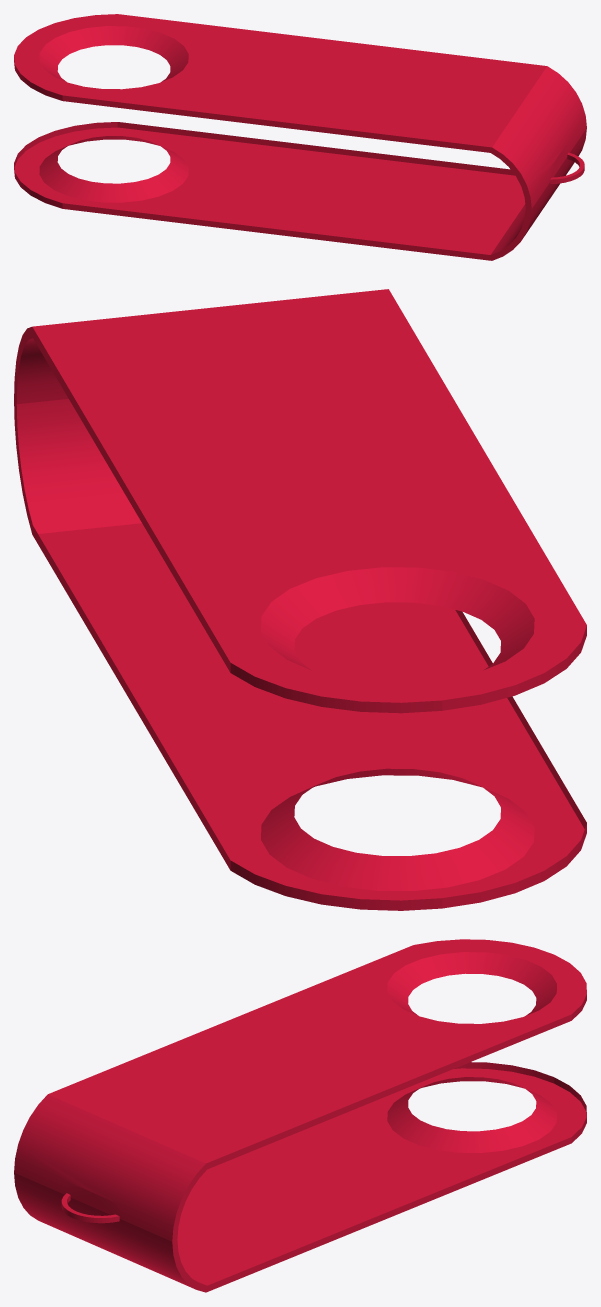
Rendered from original-1.obj.
3 views of the same model, one above another, from view 1: azimuth 30°, elevation 25°; view 2: azimuth 150°, elevation 25°; view 3: azimuth 270°, elevation 25° (orthographic). The views are drawn at different scales.
Visible parts, largest first — view 1: staffa1/staffa/mesh1/mesh1-geometry#mesh1-geometry; view 2: staffa1/staffa/mesh1/mesh1-geometry#mesh1-geometry; view 3: staffa1/staffa/mesh1/mesh1-geometry#mesh1-geometry.
Part boxes in pixels (x1,y1,x2,y2): staffa1/staffa/mesh1/mesh1-geometry#mesh1-geometry: (14, 14, 586, 260); staffa1/staffa/mesh1/mesh1-geometry#mesh1-geometry: (14, 289, 586, 910); staffa1/staffa/mesh1/mesh1-geometry#mesh1-geometry: (14, 939, 586, 1292).
Bounding box in the file's own units: 1.32 × 0.3337 × 1.34.
